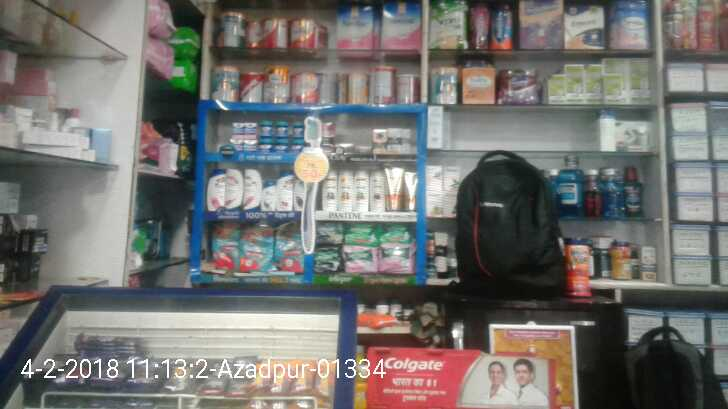oralcare: (558, 154, 584, 216)
vicks: (227, 116, 306, 152)
